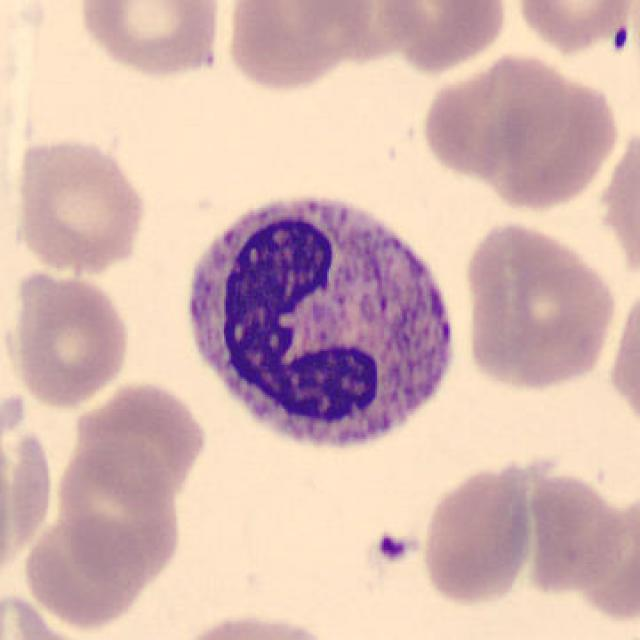Neutrophil: (174, 178, 468, 473)
Platelets: (370, 529, 416, 566)
RBC: (457, 217, 620, 397), (471, 58, 621, 214), (418, 48, 574, 188), (9, 132, 151, 279), (52, 435, 186, 589), (5, 264, 135, 412), (67, 377, 212, 508), (416, 458, 539, 608), (18, 510, 151, 630), (519, 467, 633, 598), (220, 0, 374, 95), (72, 0, 227, 79), (373, 0, 512, 76), (0, 416, 55, 587), (286, 0, 432, 63), (510, 0, 638, 56), (604, 274, 640, 444), (169, 610, 347, 640), (0, 589, 92, 640)
